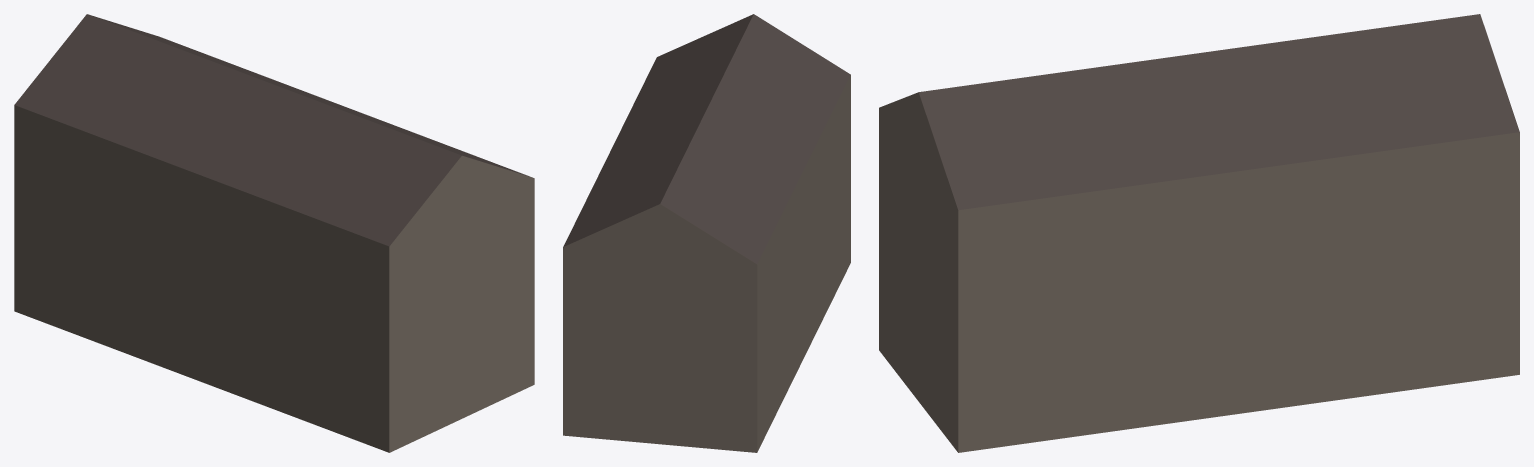
The picture shows the model from 3 angles, left to right: view 1: azimuth 30°, elevation 25°; view 2: azimuth 150°, elevation 25°; view 3: azimuth 270°, elevation 25°; orthographic projection. The views are drawn at different scales.
Parts seen in each view (by area): view 1: HP-w408450668; view 2: HP-w408450668; view 3: HP-w408450668.
Part boxes in pixels (x1,y1,x2,y2): HP-w408450668: (14, 14, 534, 452); HP-w408450668: (563, 14, 850, 452); HP-w408450668: (879, 14, 1519, 452).
Bounding box in the file's own units: 9.59 × 7.65 × 14.36.
